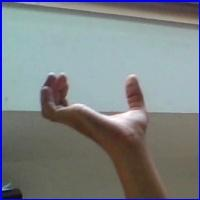B: (31, 65, 158, 156)
